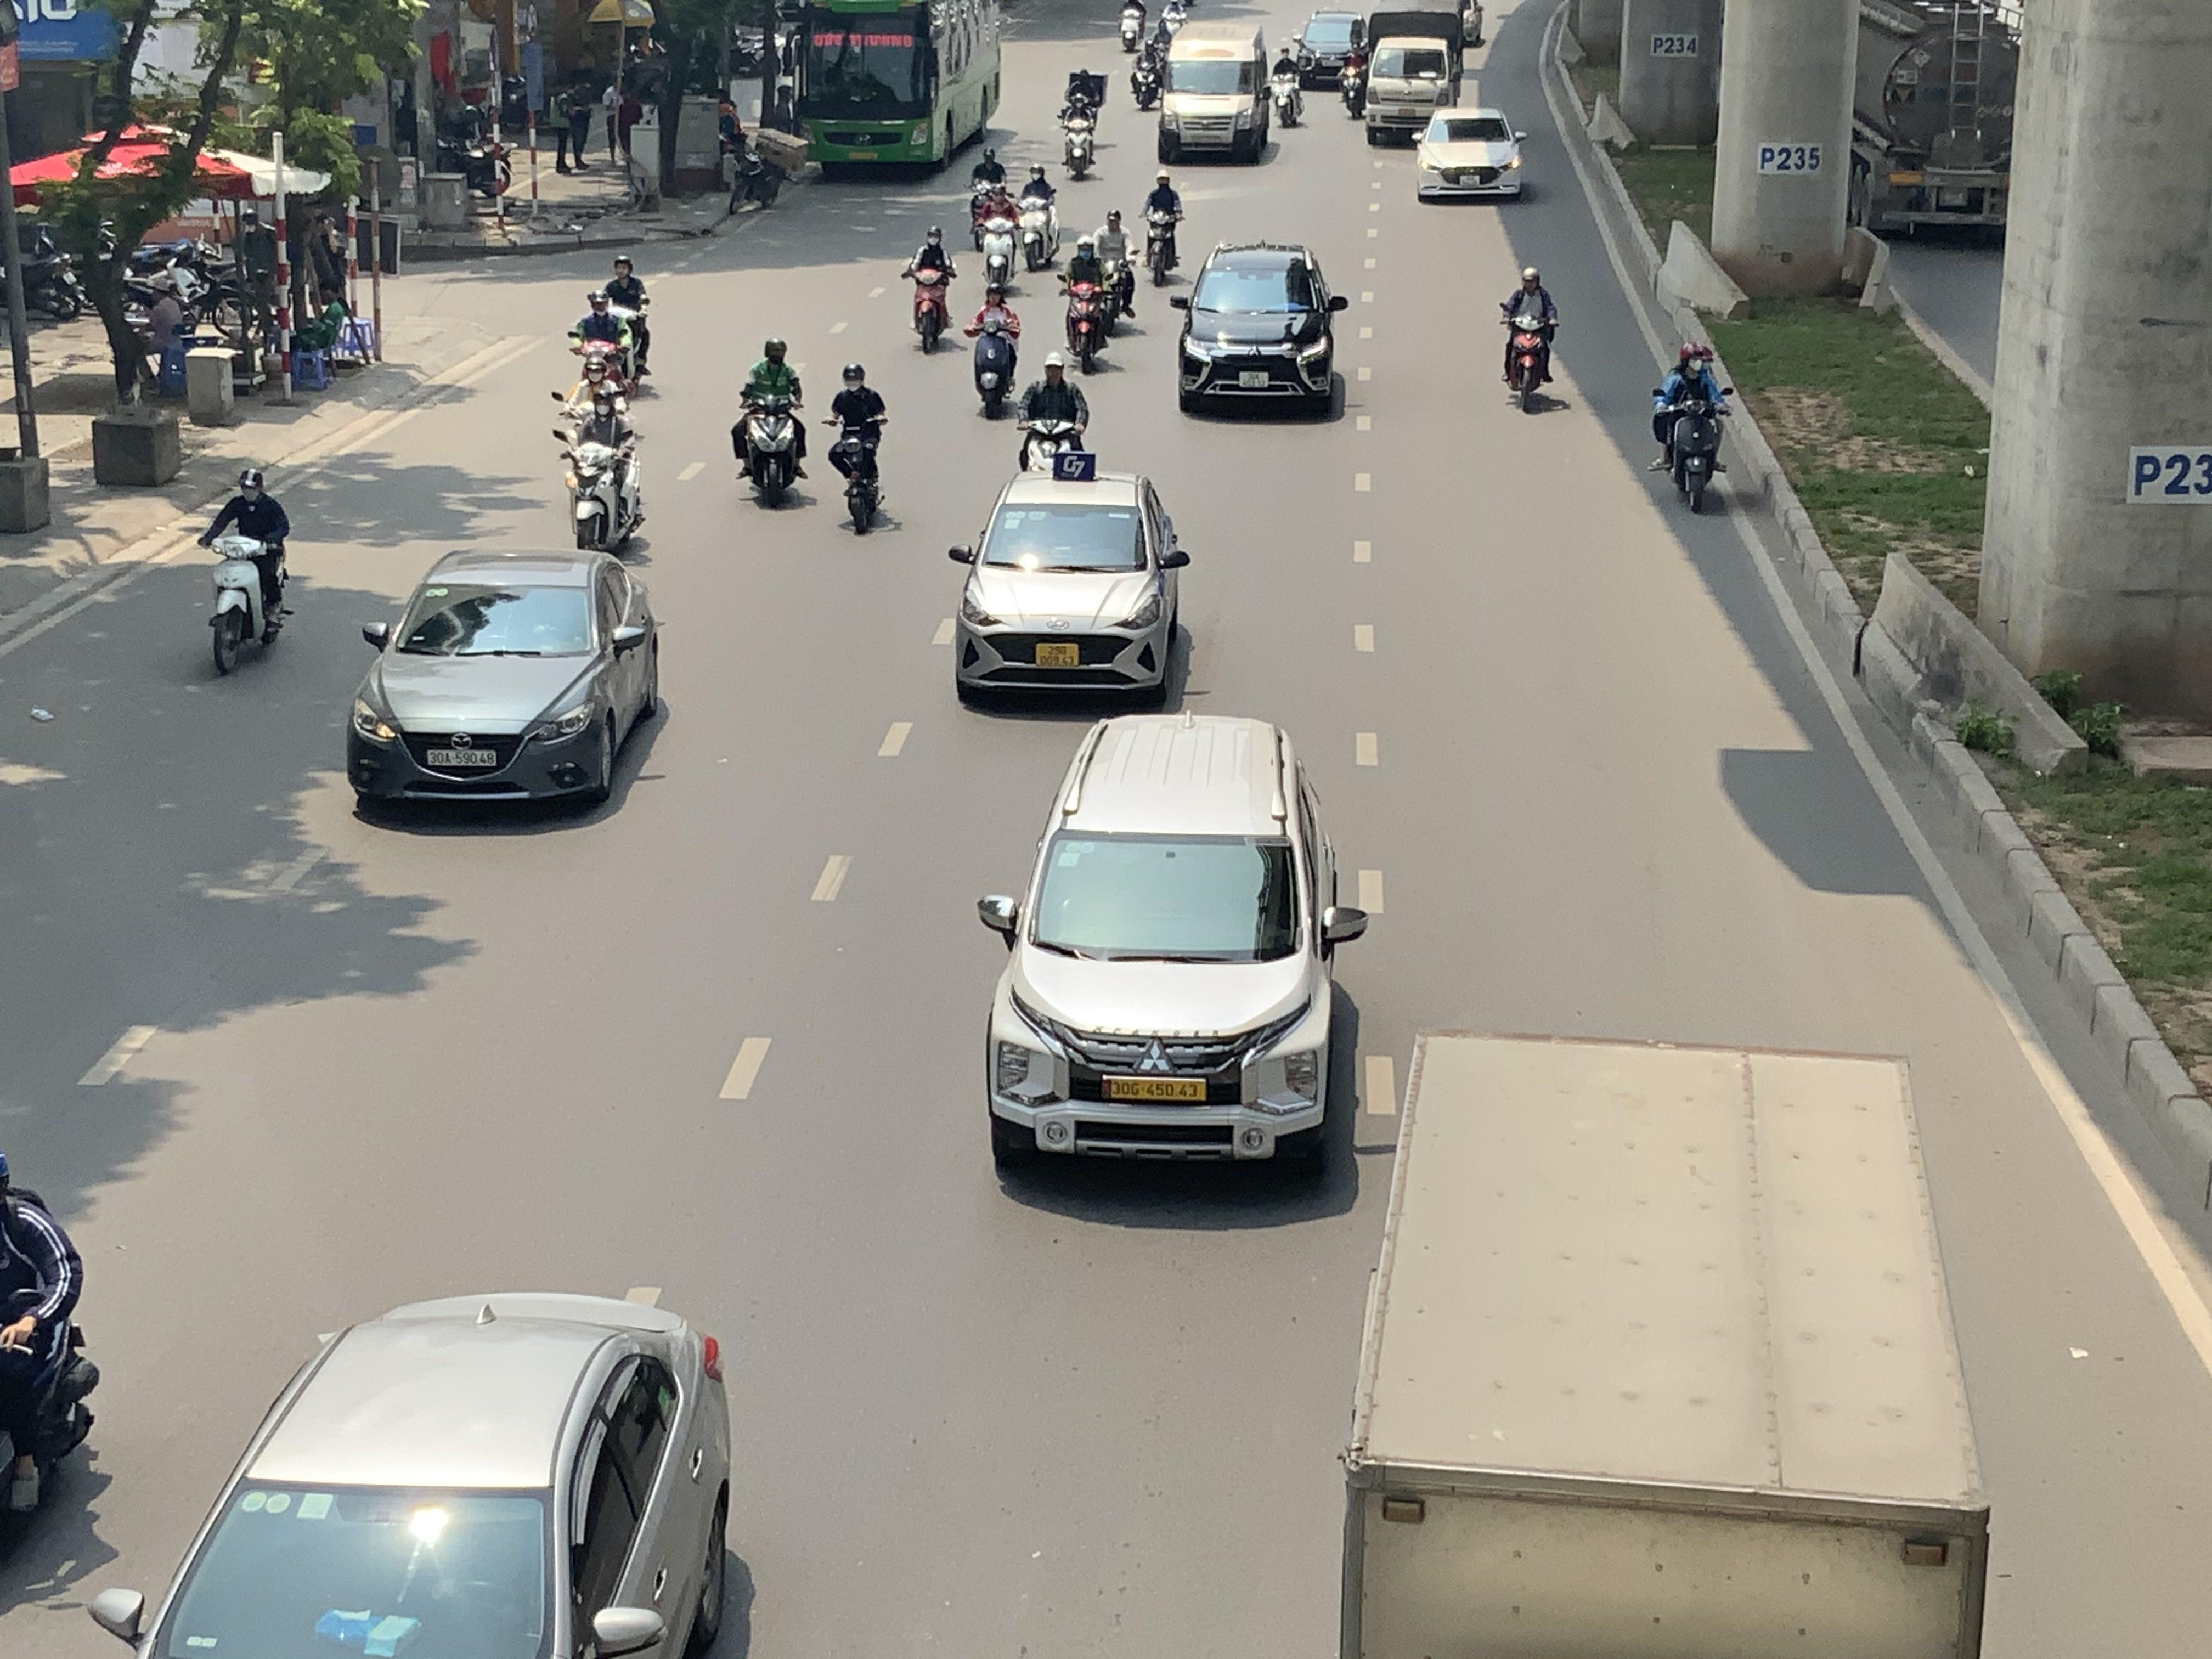BSD: (1108, 1077, 1205, 1103), (428, 748, 498, 767)
BSV: (1036, 643, 1080, 667), (1238, 371, 1268, 387)
bus: (784, 0, 1005, 176)
car: (80, 1288, 742, 1659), (977, 711, 1376, 1182), (345, 549, 667, 819), (946, 471, 1197, 711), (1170, 242, 1350, 418), (1414, 106, 1527, 202)
motorbike: (0, 1131, 101, 1588), (202, 465, 293, 676), (559, 382, 648, 558), (1653, 338, 1731, 514), (732, 336, 808, 511), (826, 361, 894, 537), (1015, 354, 1097, 481), (564, 289, 634, 418), (1500, 265, 1559, 413), (967, 282, 1024, 418), (1059, 237, 1115, 375), (597, 254, 655, 385), (904, 225, 960, 356), (719, 115, 786, 214), (1090, 207, 1141, 329), (974, 181, 1022, 296), (1139, 169, 1186, 286), (1014, 162, 1062, 272), (1057, 91, 1101, 183), (1127, 33, 1169, 110), (1270, 44, 1306, 127), (1336, 38, 1367, 115), (1118, 0, 1148, 54)
truck: (1157, 19, 1277, 166), (1357, 2, 1465, 146)
